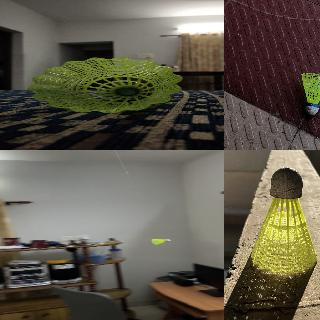shuttlecock: (27, 57, 182, 112), (251, 168, 317, 272), (301, 72, 319, 115), (151, 238, 170, 244)
